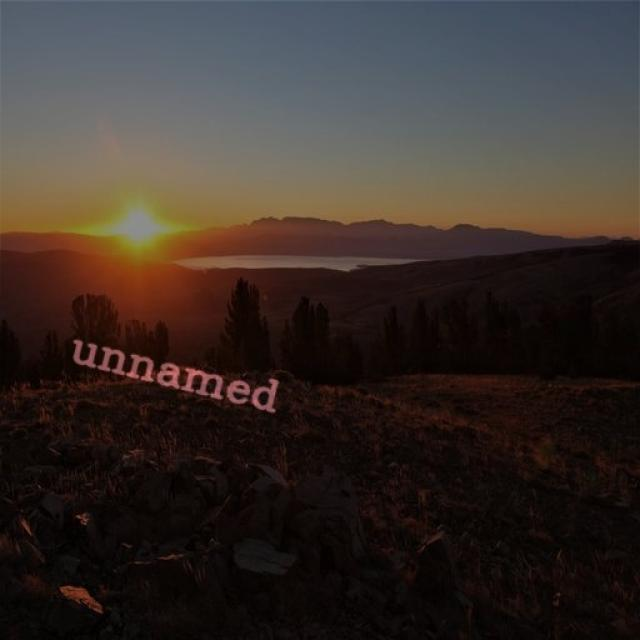watermark: (57, 327, 306, 419)
